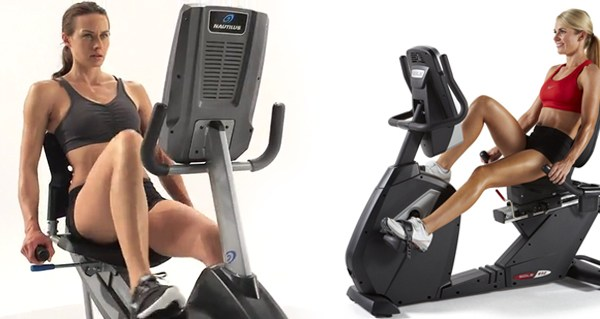gym_bike: (344, 50, 595, 316)
